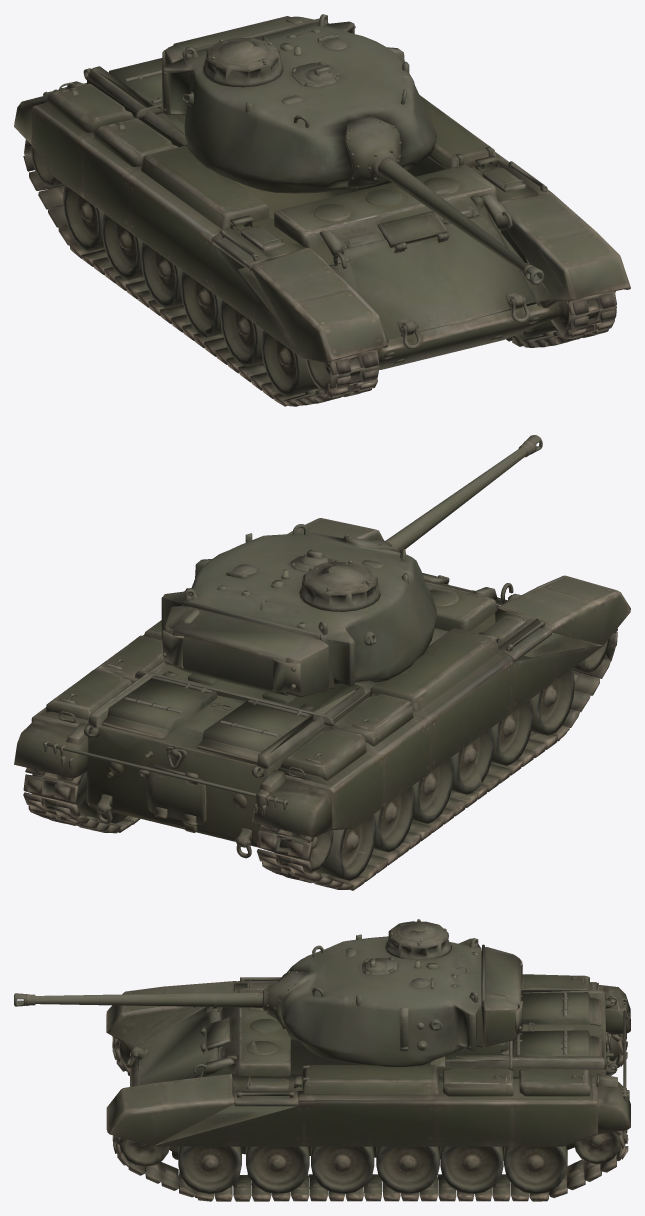
Rendered from tank-centurion-mk3.glb.
3 views of the same model, one above another, from view 1: azimuth 30°, elevation 25°; view 2: azimuth 150°, elevation 25°; view 3: azimuth 270°, elevation 25° (orthographic). The views are drawn at different scales.
Parts seen in each view (by area): view 1: Hull, Turret, Gun; view 2: Hull, Turret, Gun; view 3: Hull, Turret, Gun.
Part boxes in pixels (x1,y1,x2,y2): Hull: (14, 58, 630, 406); Turret: (162, 14, 436, 191); Gun: (378, 158, 544, 284); Hull: (14, 518, 630, 890); Turret: (161, 524, 436, 697); Gun: (385, 435, 542, 552); Hull: (106, 974, 630, 1201); Turret: (263, 919, 522, 1064); Gun: (14, 992, 262, 1007).
Bounding box in the file's own units: 0.4683 × 0.356 × 0.9995.
1 material, 1 textured.
